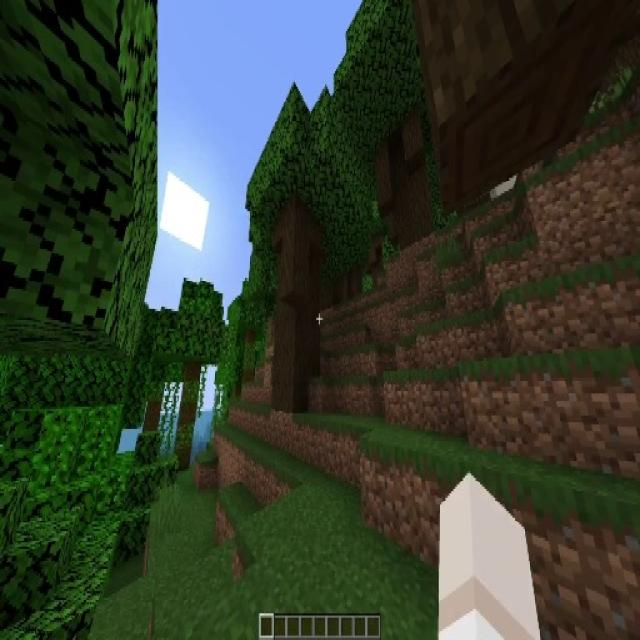dark_oak: (252, 97, 354, 408), (361, 29, 448, 249)
dark_oak_log: (269, 198, 319, 410), (382, 135, 430, 246)
jungle: (162, 275, 226, 467), (132, 308, 180, 472)
jungle_log: (174, 366, 205, 464), (144, 396, 161, 434)
